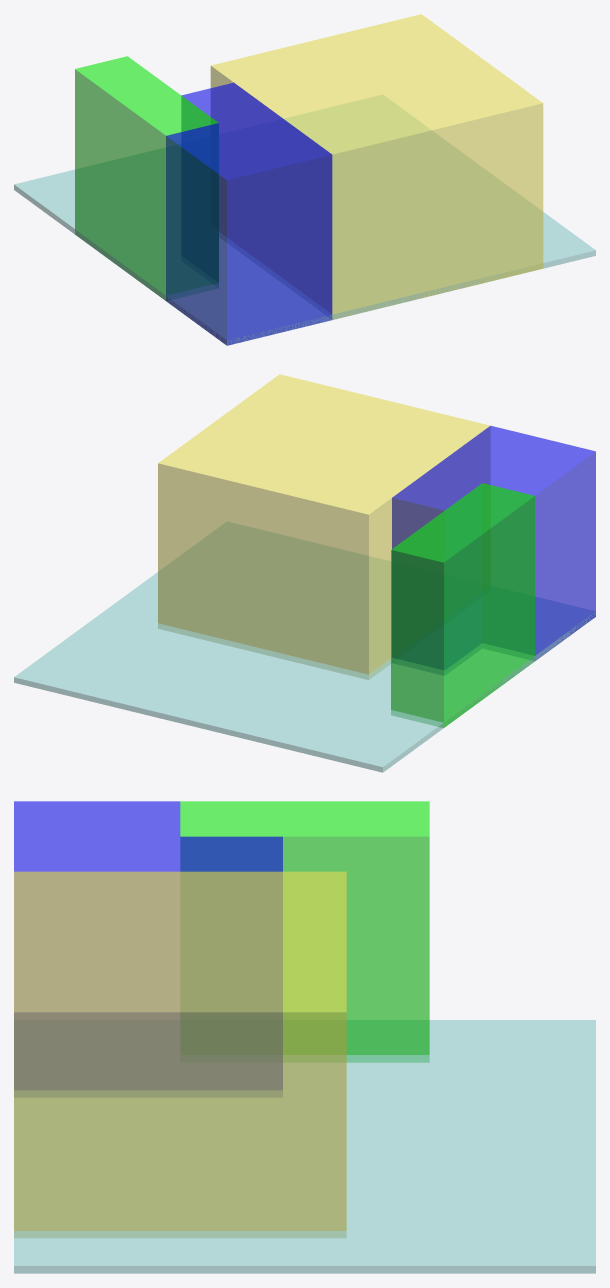
Rendered from expandToArea.glb.
3 renders of one model, top to bottom at view 1: azimuth 30°, elevation 25°; view 2: azimuth 150°, elevation 25°; view 3: azimuth 270°, elevation 25°, orthographic. The views are drawn at different scales.
Visible parts, largest first — view 1: 5c68c024-7a67-4c5b-8ff5-382980be2632_mesh, eb3ce9bd-6f5d-467e-83be-2c586e30f0f5_mesh, cbf72c91-db7d-4595-b0aa-c3e9c5322e53_mesh, a492e203-c127-4b53-a016-b46c9f35b4cd_mesh; view 2: 5c68c024-7a67-4c5b-8ff5-382980be2632_mesh, eb3ce9bd-6f5d-467e-83be-2c586e30f0f5_mesh, cbf72c91-db7d-4595-b0aa-c3e9c5322e53_mesh, a492e203-c127-4b53-a016-b46c9f35b4cd_mesh; view 3: eb3ce9bd-6f5d-467e-83be-2c586e30f0f5_mesh, 5c68c024-7a67-4c5b-8ff5-382980be2632_mesh, cbf72c91-db7d-4595-b0aa-c3e9c5322e53_mesh, a492e203-c127-4b53-a016-b46c9f35b4cd_mesh.
Boxes of the visible parts, x1=… form: 5c68c024-7a67-4c5b-8ff5-382980be2632_mesh: x1=210, y1=14, x2=543, y2=319; eb3ce9bd-6f5d-467e-83be-2c586e30f0f5_mesh: x1=14, y1=95, x2=595, y2=345; cbf72c91-db7d-4595-b0aa-c3e9c5322e53_mesh: x1=166, y1=82, x2=332, y2=345; a492e203-c127-4b53-a016-b46c9f35b4cd_mesh: x1=75, y1=56, x2=218, y2=300; 5c68c024-7a67-4c5b-8ff5-382980be2632_mesh: x1=158, y1=374, x2=490, y2=679; eb3ce9bd-6f5d-467e-83be-2c586e30f0f5_mesh: x1=14, y1=522, x2=595, y2=772; cbf72c91-db7d-4595-b0aa-c3e9c5322e53_mesh: x1=392, y1=426, x2=595, y2=670; a492e203-c127-4b53-a016-b46c9f35b4cd_mesh: x1=391, y1=483, x2=534, y2=727; eb3ce9bd-6f5d-467e-83be-2c586e30f0f5_mesh: x1=14, y1=1020, x2=595, y2=1273; 5c68c024-7a67-4c5b-8ff5-382980be2632_mesh: x1=14, y1=871, x2=346, y2=1237; cbf72c91-db7d-4595-b0aa-c3e9c5322e53_mesh: x1=14, y1=801, x2=282, y2=1089; a492e203-c127-4b53-a016-b46c9f35b4cd_mesh: x1=180, y1=801, x2=429, y2=1062.
Bounding box in the file's own units: 7 × 3 × 7.
